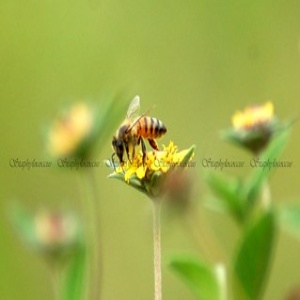bee: (109, 94, 169, 184)
